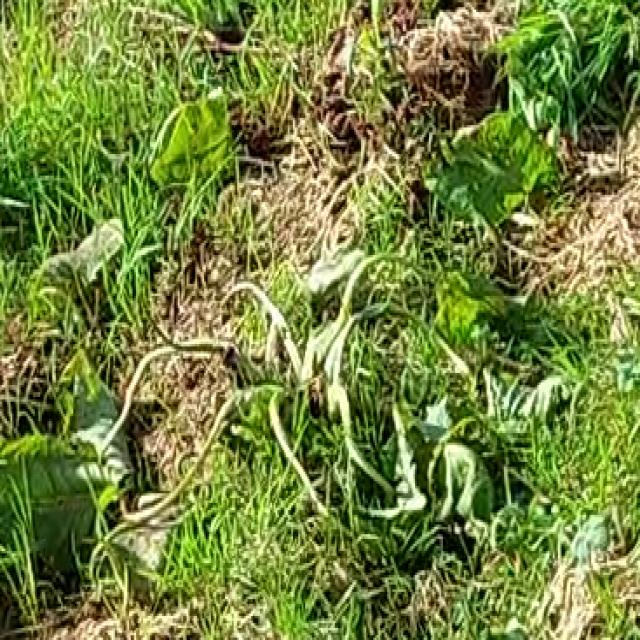organic waste: (0, 70, 569, 592)
